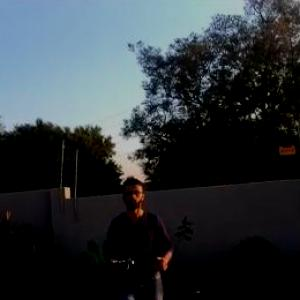follow: (102, 174, 178, 299)
